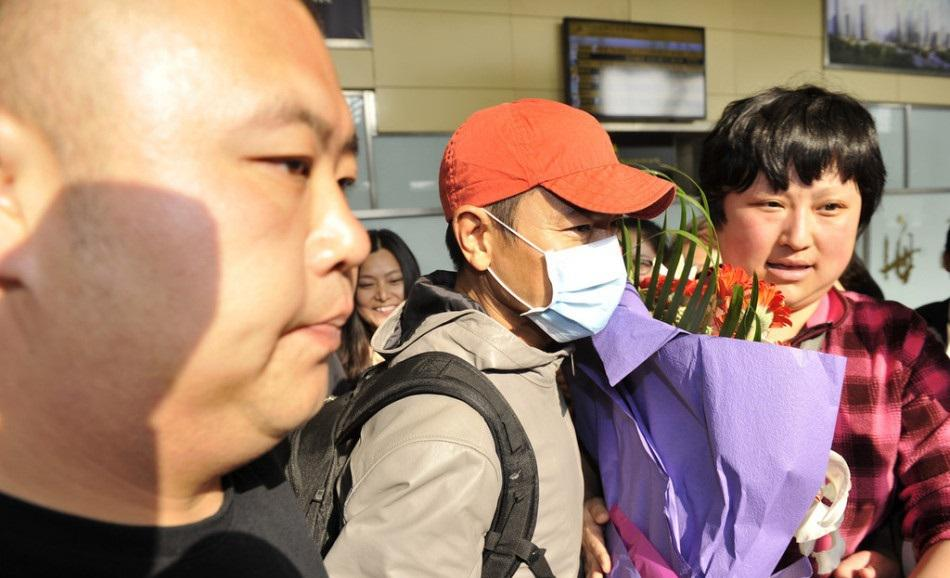NONE: (114, 81, 373, 432), (726, 173, 859, 306), (347, 255, 417, 327)
OK: (523, 198, 632, 328)
